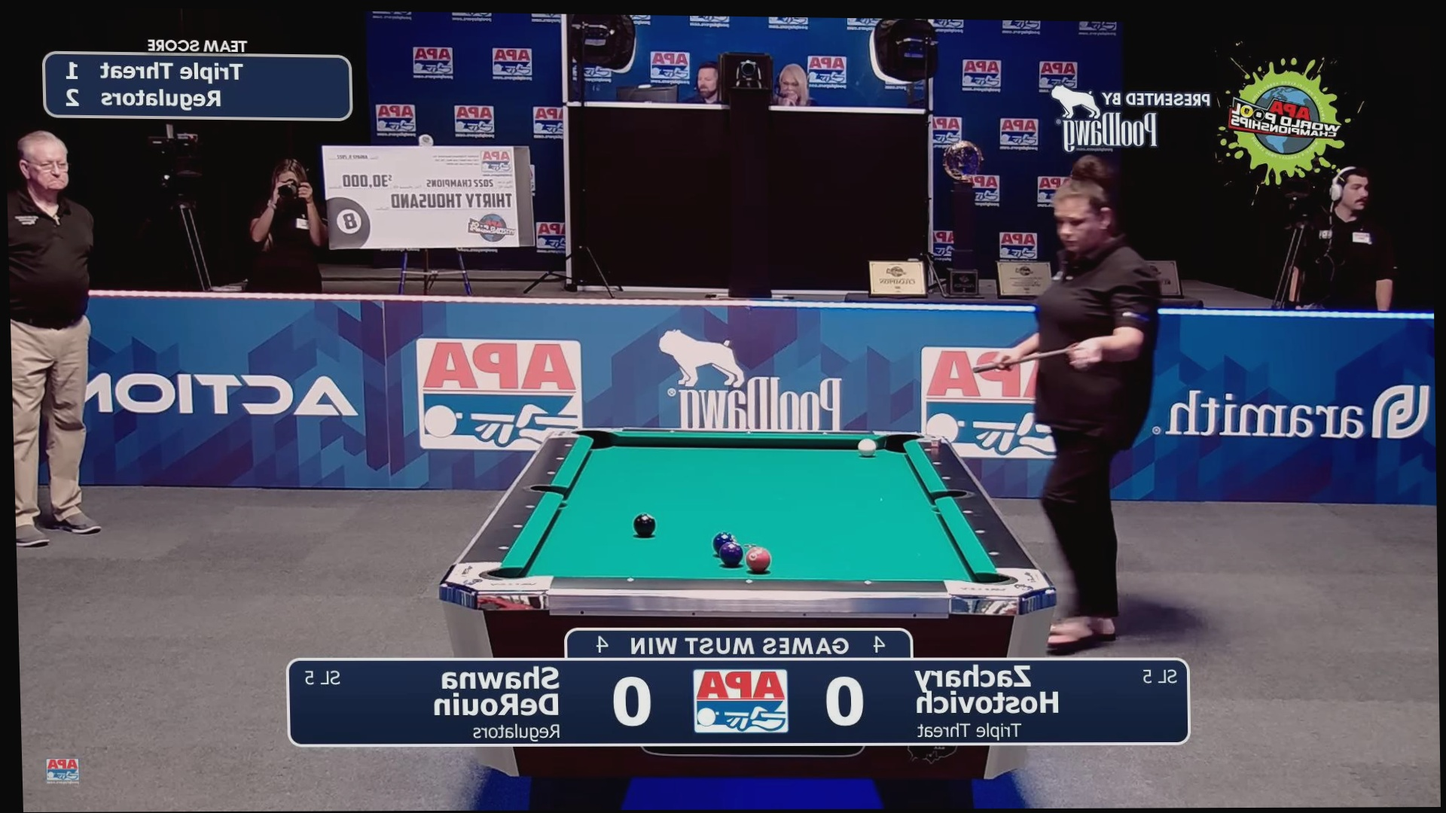Black: (988, 549, 999, 557), (974, 527, 985, 535), (563, 441, 574, 449), (555, 455, 566, 463), (745, 577, 755, 585), (863, 579, 873, 587), (932, 459, 943, 466), (923, 446, 934, 453), (667, 428, 678, 435), (525, 503, 536, 510), (513, 523, 524, 530), (498, 545, 509, 552), (962, 508, 972, 515), (942, 474, 952, 481), (820, 430, 830, 437), (744, 429, 754, 436), (547, 469, 557, 476), (626, 576, 636, 583)
Cue: (746, 546, 771, 573), (719, 541, 743, 567), (712, 531, 735, 556)
Solid: (634, 513, 656, 537)
Stripe: (857, 438, 876, 456)
